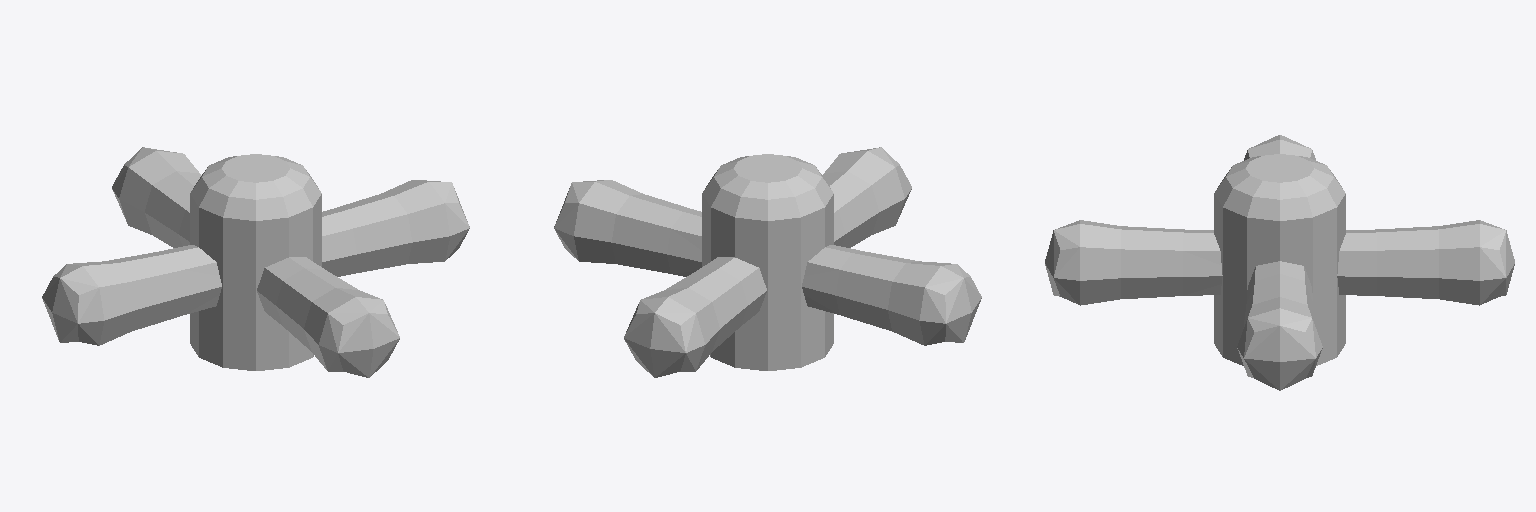
3 views of the same model, side by side, from view 1: azimuth 30°, elevation 25°; view 2: azimuth 150°, elevation 25°; view 3: azimuth 270°, elevation 25° (orthographic).
Visible parts, largest first — view 1: part6:faucet handle 2; view 2: part6:faucet handle 2; view 3: part6:faucet handle 2.
Boxes of the visible parts, x1,y1,x2,y2 form: part6:faucet handle 2: [42, 147, 469, 377]; part6:faucet handle 2: [554, 147, 981, 377]; part6:faucet handle 2: [1045, 135, 1514, 390].
Bounding box in the file's own units: 0.0555 × 0.0228 × 0.0555.